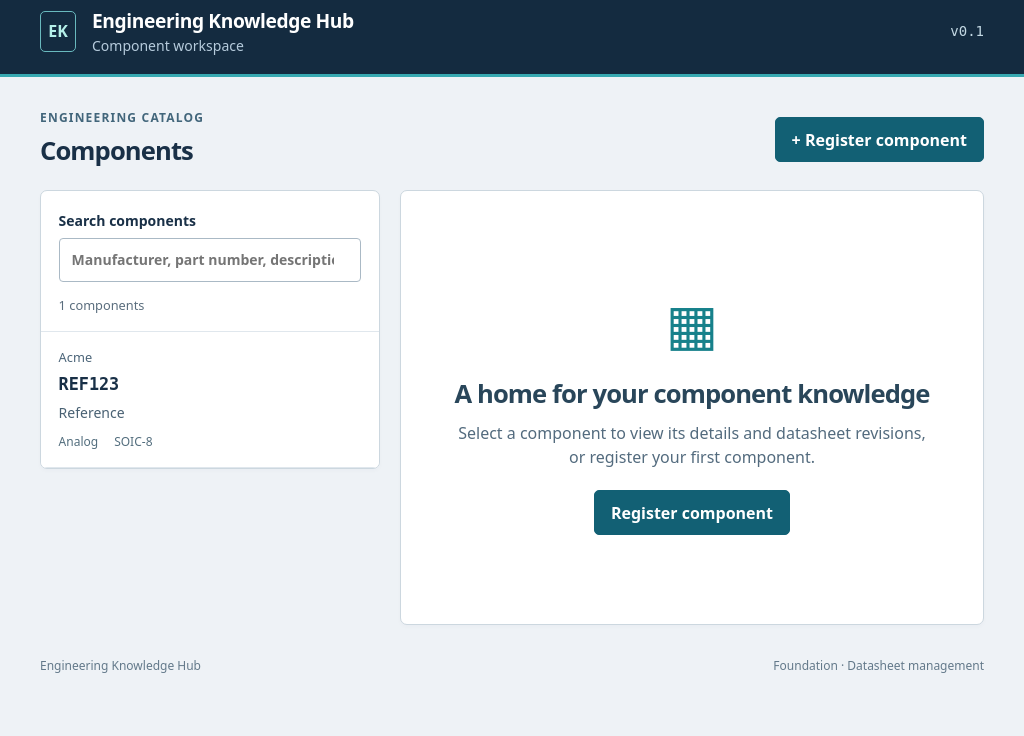
Test: edits company metadata, transitions lifecycle, and views canonical pins
Click the button "Acme REF123 Reference Analog SOIC-8": (75, 357) [41,332,379,468]
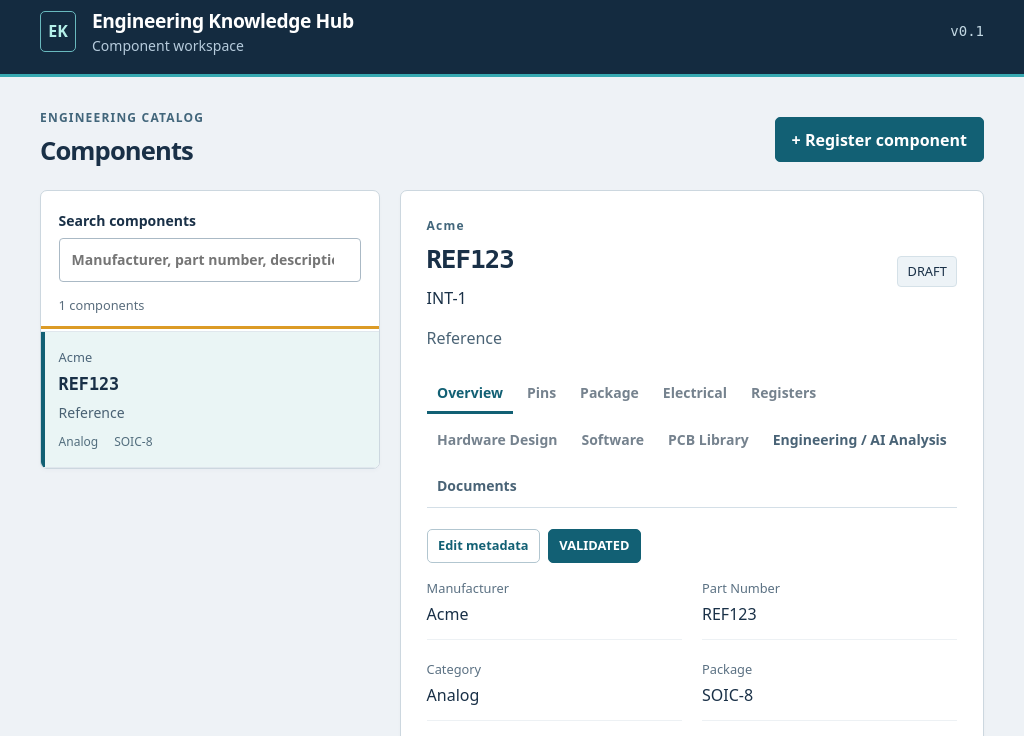
Click the button "Edit metadata": (483, 546) [427,529,540,563]
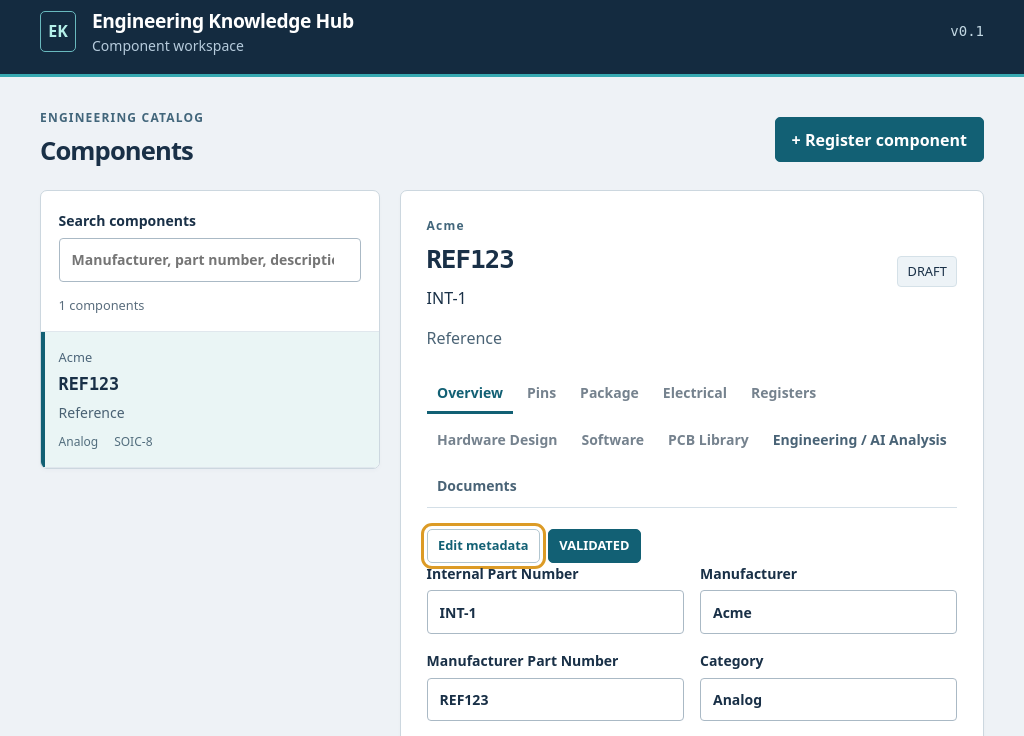
Replace the text in the field labelled "Internal Part Number" with "INT-2": (555, 612) [427,590,684,634]
(page scrolled)
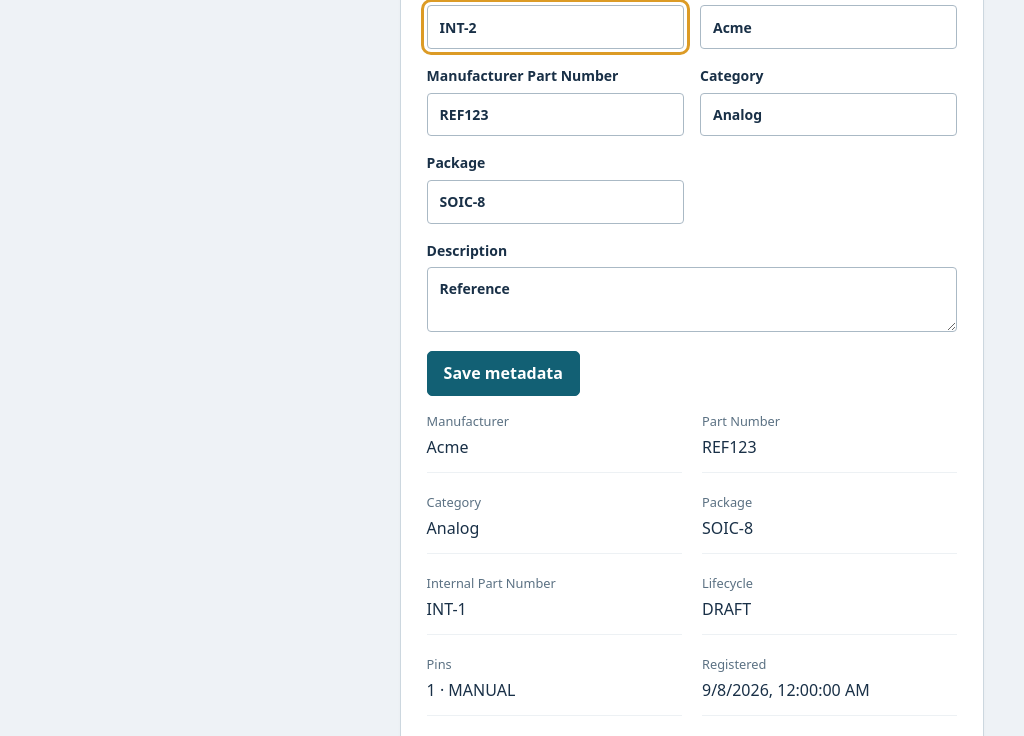
Click the button "Save metadata": (503, 374) [427,351,580,396]
(page scrolled)
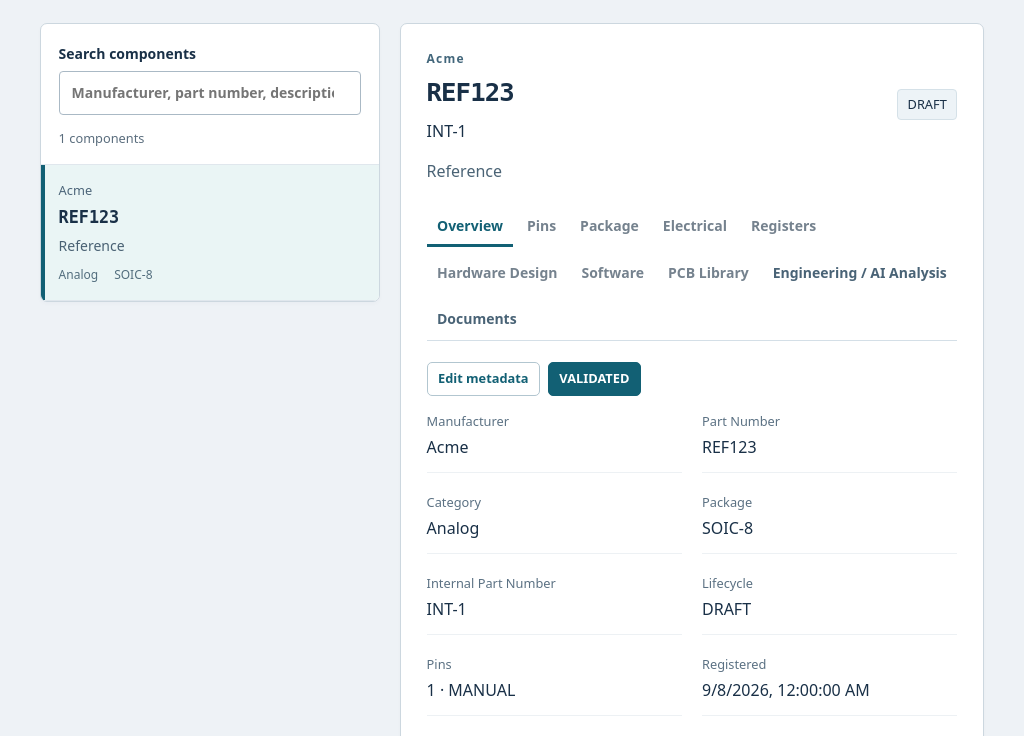
Click the button "VALIDATED": (594, 379) [548,362,641,396]
(page scrolled)
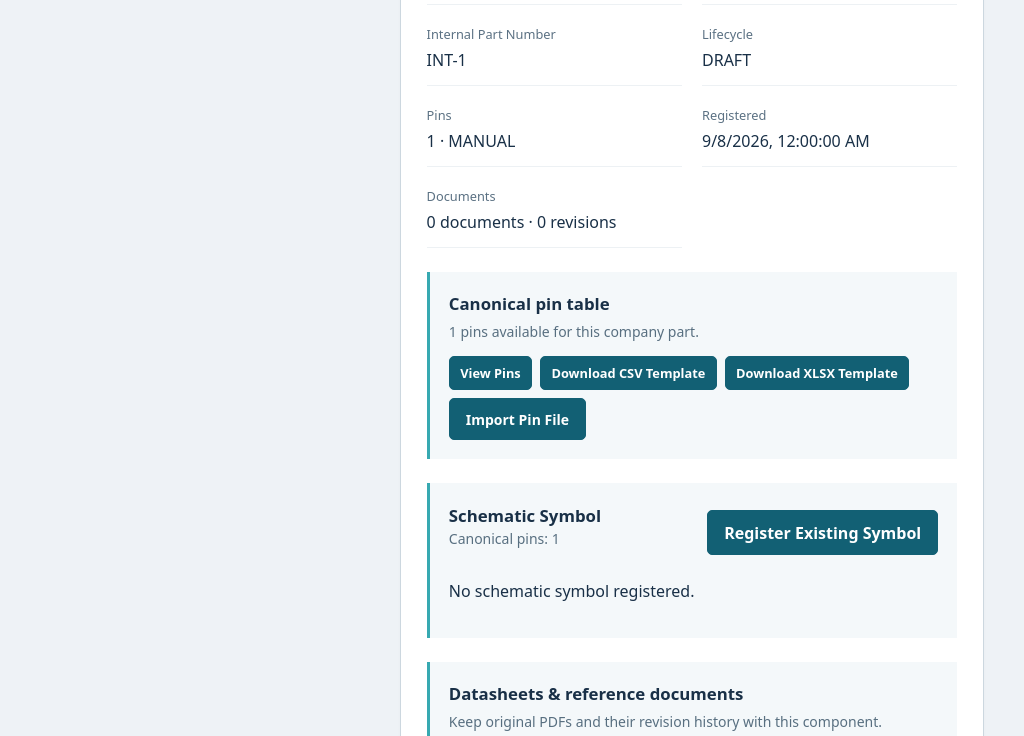
Click the button "View Pins": (490, 373) [449,356,532,390]
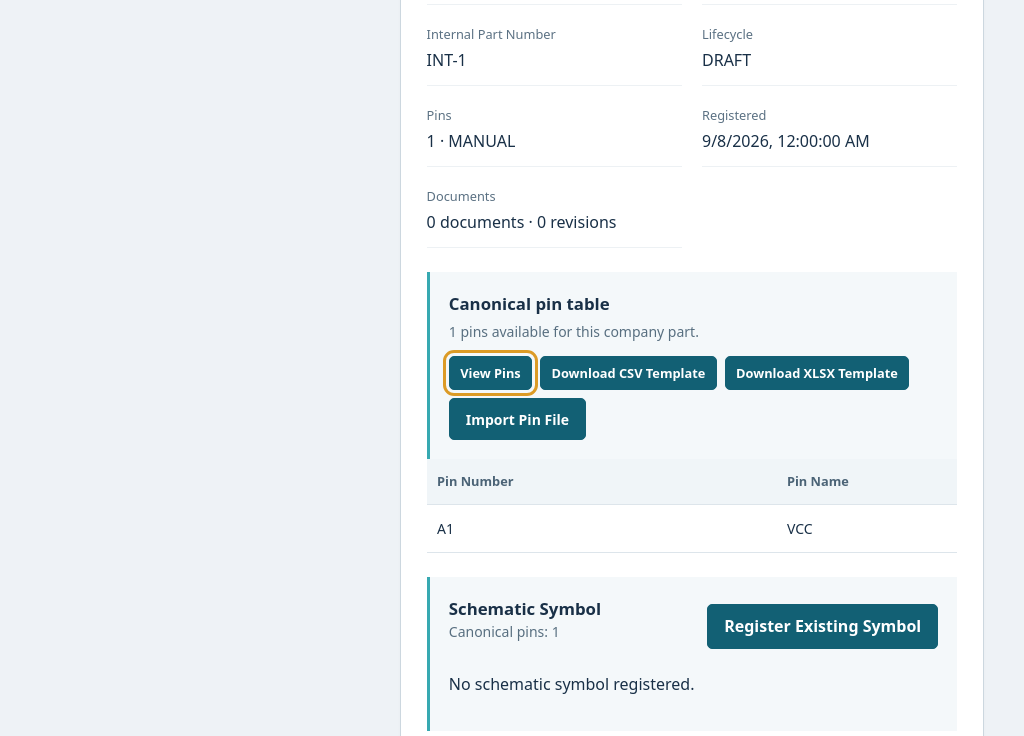
Expected: the text "VCC" is shown, [776,505,957,552]
